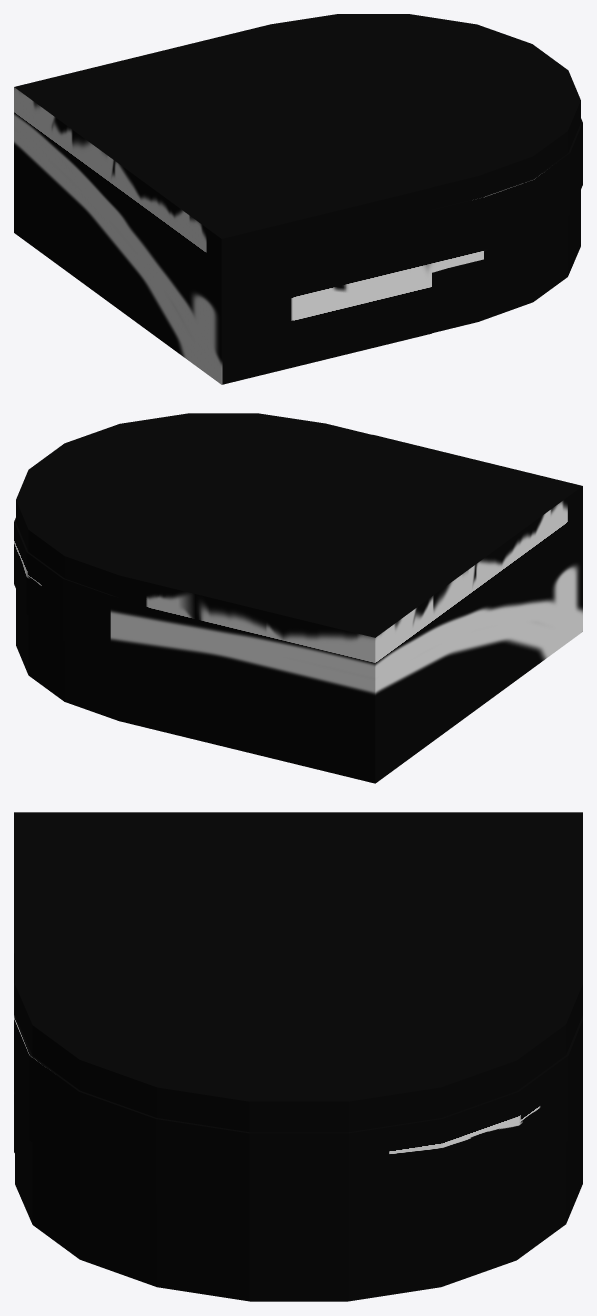
Rendered from Elevator Floor.fbx.
3 views of the same model, one above another, from view 1: azimuth 30°, elevation 25°; view 2: azimuth 150°, elevation 25°; view 3: azimuth 270°, elevation 25° (orthographic). The views are drawn at different scales.
Visible parts, largest first — view 1: ElevatorPlattform; view 2: ElevatorPlattform; view 3: ElevatorPlattform.
Boxes of the visible parts, x1,y1,x2,y2 form: ElevatorPlattform: [14, 14, 582, 384]; ElevatorPlattform: [14, 413, 582, 783]; ElevatorPlattform: [14, 812, 582, 1301].
Bounding box in the file's own units: 338 × 109 × 280.
